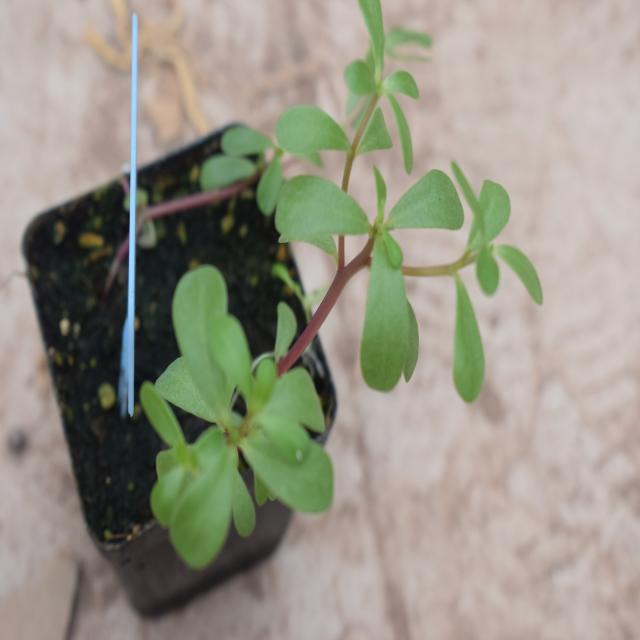purslane: (122, 27, 548, 556)
